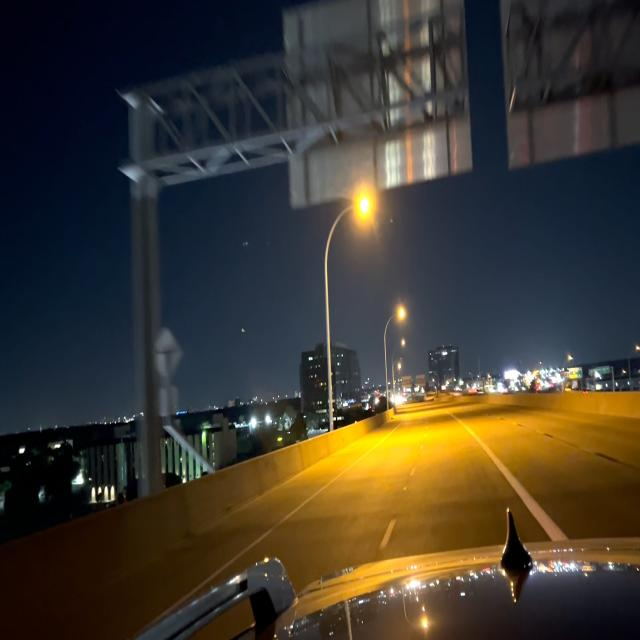back-of-sign: (286, 0, 472, 219), (500, 0, 640, 200)
